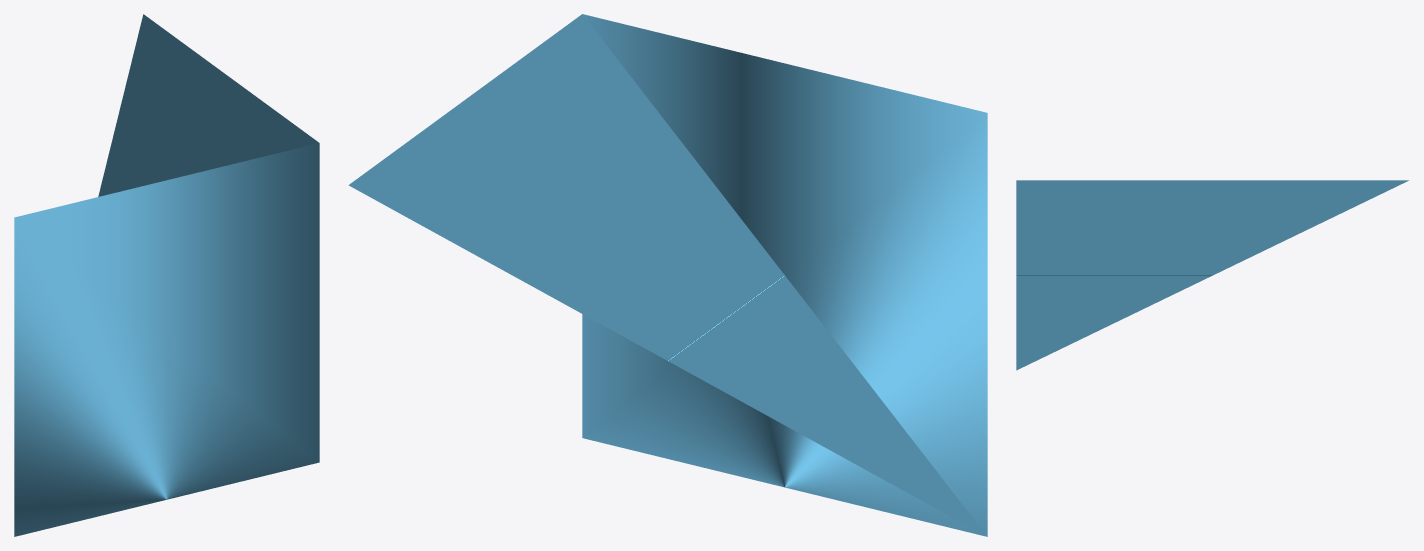
The model's file is uuv.gltf.
The picture shows the model from 3 angles, left to right: view 1: azimuth 30°, elevation 25°; view 2: azimuth 150°, elevation 25°; view 3: azimuth 270°, elevation 25°; orthographic projection. The views are drawn at different scales.
Parts seen in each view (by area): view 1: TwinCube; view 2: TwinCube; view 3: TwinCube.
Boxes of the visible parts, left/top/right/bottom form: TwinCube: left=14, top=14, right=319, bottom=536; TwinCube: left=348, top=14, right=987, bottom=536; TwinCube: left=1016, top=180, right=1408, bottom=370.
Bounding box in the file's own units: 1 × 1 × 1.
